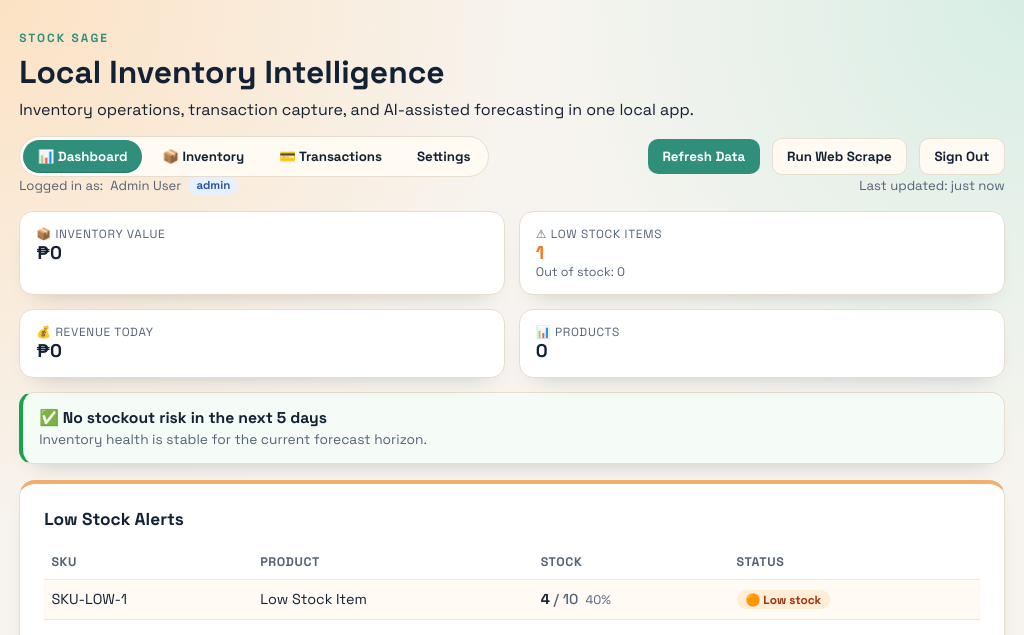
Test: Dashboard rendering › loads the item forecast with a 365-day history window
Click the text "Low Stock Item" at (393, 600), box x1=253 y1=580 x2=534 y2=619
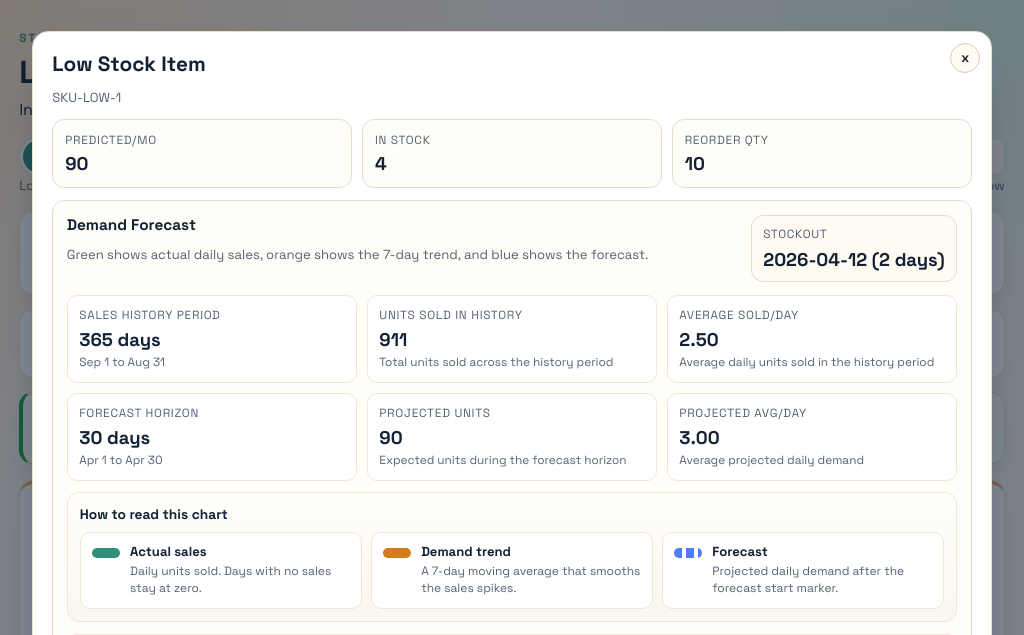
Expected: the text "Sales history period" shows "365 days", x1=67 y1=295 x2=357 y2=383
